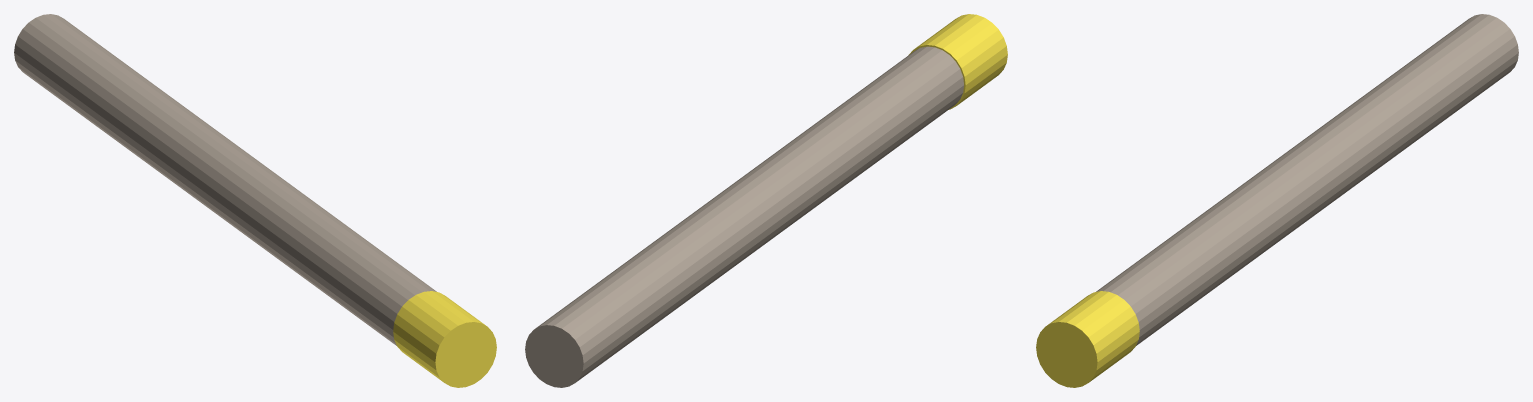
Rendered from pile.glb.
3 renders of one model, left to right at view 1: azimuth 30°, elevation 25°; view 2: azimuth 150°, elevation 25°; view 3: azimuth 330°, elevation 25°, orthographic.
Visible parts, largest first — view 1: part0, part1; view 2: part0, part1; view 3: part0, part1.
Part boxes in pixels (x1=…): part0: x1=14, y1=14, x2=436, y2=345; part1: x1=393, y1=291, x2=496, y2=387; part0: x1=525, y1=46, x2=963, y2=387; part1: x1=908, y1=14, x2=1007, y2=109; part0: x1=1096, y1=14, x2=1518, y2=345; part1: x1=1036, y1=291, x2=1139, y2=387.
Bounding box in the file's own units: 0.42 × 0.42 × 5.
